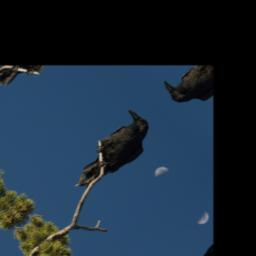Crow: (55, 105, 162, 201)
